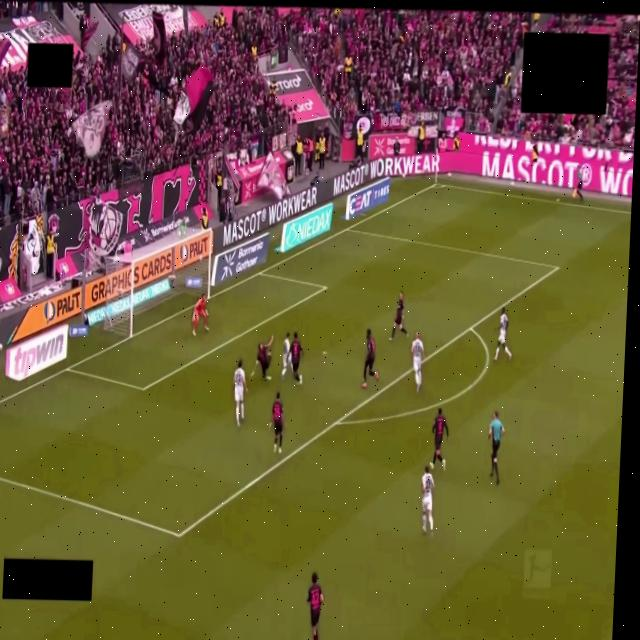player: (431, 409, 448, 470), (308, 573, 323, 639), (362, 328, 378, 388), (494, 307, 512, 360), (233, 360, 247, 425), (421, 466, 434, 533), (390, 292, 408, 340), (252, 337, 272, 380), (271, 392, 284, 454), (411, 333, 424, 392), (192, 293, 209, 335), (290, 332, 302, 384), (282, 333, 291, 377)
referee: (488, 411, 504, 484), (572, 168, 583, 201)
